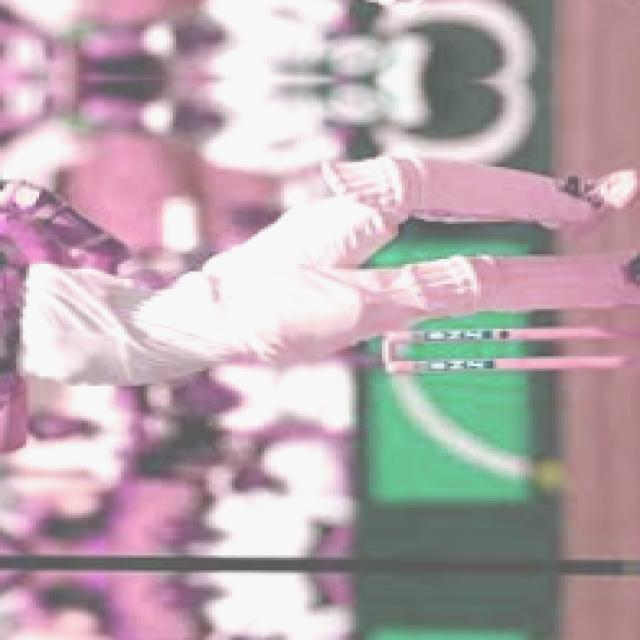toe: (0, 440, 29, 455)
